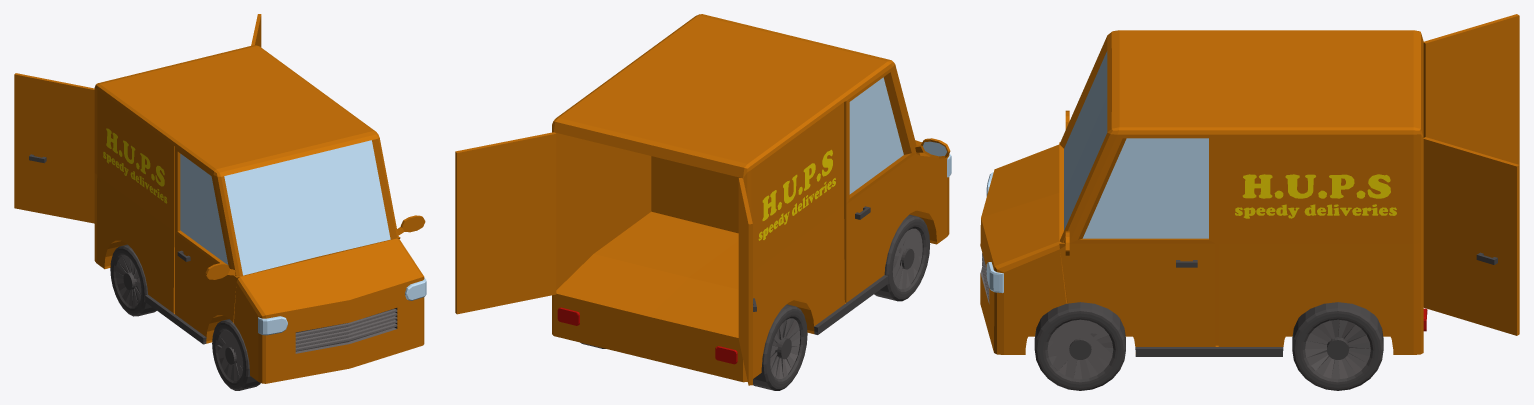
The model's file is VanDoors.fbx.
The picture shows the model from 3 angles, left to right: view 1: azimuth 30°, elevation 25°; view 2: azimuth 150°, elevation 25°; view 3: azimuth 270°, elevation 25°; orthographic projection. The views are drawn at different scales.
Visible parts, largest first — view 1: Van, VanDoorRight; view 2: Van, VanDoorLeft, VanDoorRight; view 3: Van, VanDoorLeft, VanDoorRight.
Boxes of the visible parts, x1,y1,x2,y2 form: Van: (94,45,426,390); VanDoorRight: (14,73,94,223); Van: (552,14,951,390); VanDoorLeft: (455,132,556,314); VanDoorRight: (738,178,756,385); Van: (980,30,1427,390); VanDoorLeft: (1423,137,1519,335); VanDoorRight: (1423,14,1519,164).
Bounding box in the file's own units: 401 × 322 × 598.
